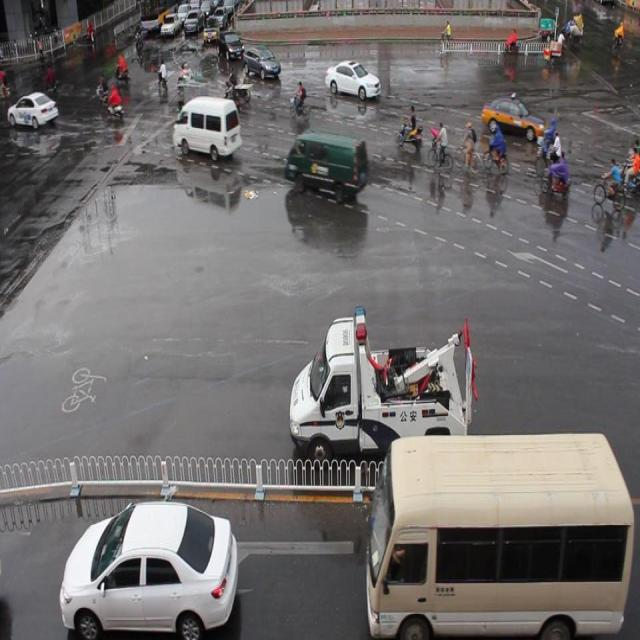bus: (288, 300, 476, 464)
car: (59, 498, 239, 640), (480, 92, 544, 142), (325, 58, 380, 102), (242, 44, 282, 82), (217, 28, 244, 64)
truck: (365, 431, 632, 640), (285, 131, 369, 202), (173, 96, 242, 161)
